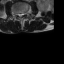CCS_stenosis: (20, 12, 21, 19)
LFS_normal: (23, 10, 25, 16)
LLS_normal: (21, 12, 23, 17)
RFS_stenosis: (16, 12, 18, 16)
RLS_normal: (18, 12, 20, 18)
